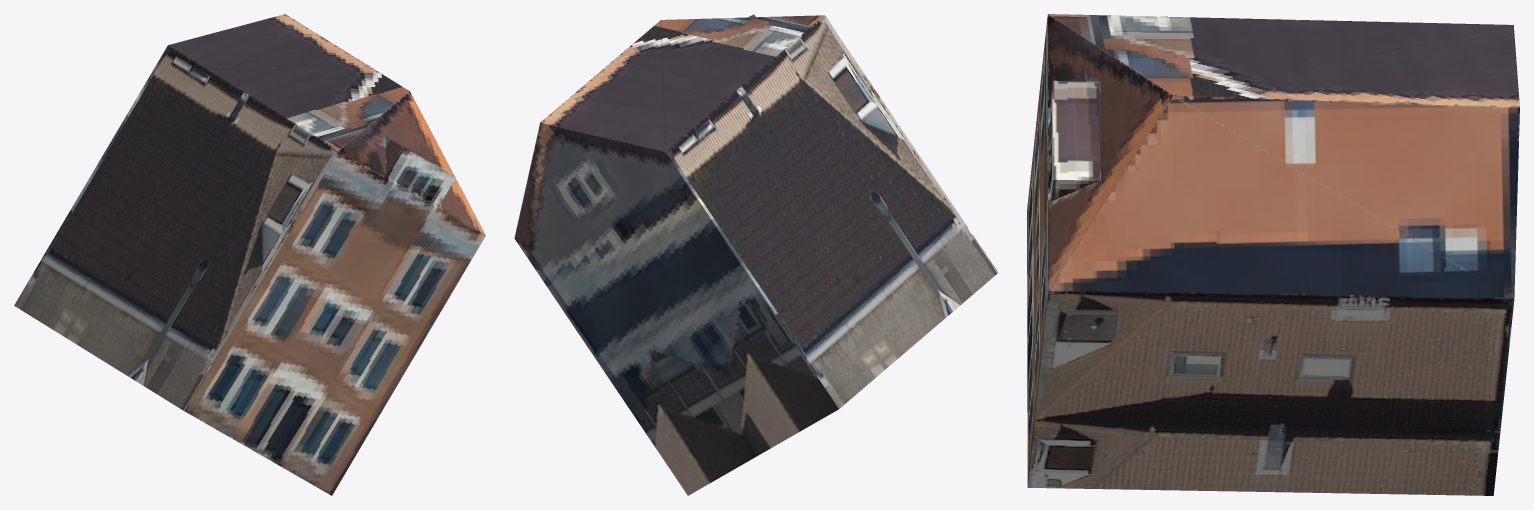
The picture shows the model from 3 angles, left to right: view 1: azimuth 30°, elevation 25°; view 2: azimuth 150°, elevation 25°; view 3: azimuth 270°, elevation 25°; orthographic projection. The views are drawn at different scales.
Visible parts, largest first — view 1: BAG_0599100000675868 (×4); view 2: BAG_0599100000675868 (×3); view 3: BAG_0599100000675868 (×5).
Boxes of the visible parts, x1,y1,x2,y2 form: BAG_0599100000675868 (×4): (14,14,485,495); BAG_0599100000675868 (×3): (514,15,998,495); BAG_0599100000675868 (×5): (1027,14,1519,495).
Bounding box in the file's own units: 13.32 × 13.94 × 12.51.
Materials: 5 (5 with a texture image).
